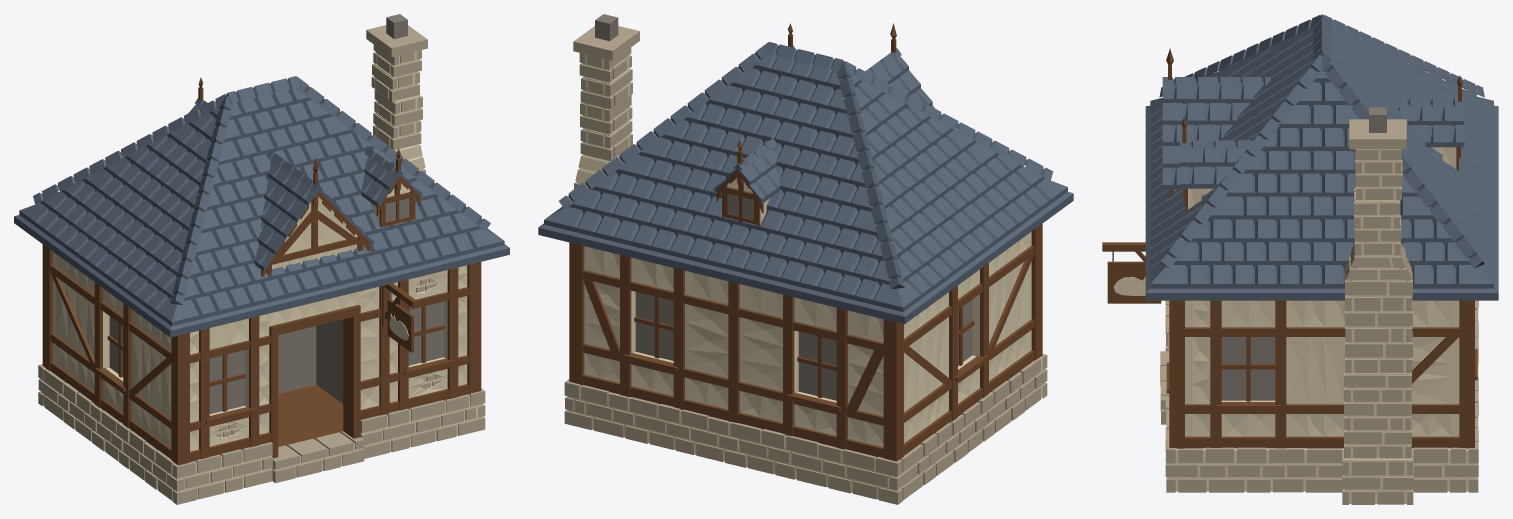
The model's file is tavern_exterior.glb.
The picture shows the model from 3 angles, left to right: view 1: azimuth 30°, elevation 25°; view 2: azimuth 150°, elevation 25°; view 3: azimuth 270°, elevation 25°; orthographic projection. The views are drawn at different scales.
Visible parts, largest first — view 1: Roof, Timbers, Walls, Foundation, Gable_Front, Vestibule, Chimney, Windows, Doorway, Dormer_Front, Sign; view 2: Roof, Timbers, Walls, Foundation, Chimney, Windows, Dormer_Back, Gable_Front; view 3: Roof, Chimney, Walls, Timbers, Foundation, Gable_Front, Windows, Dormer_Back, Dormer_Front, Sign.
Part boxes in pixels (box(x1,y1,x2,y2)): Roof: box(14, 76, 509, 337); Timbers: box(42, 244, 481, 465); Walls: box(53, 252, 467, 451); Foundation: box(38, 364, 485, 504); Gable_Front: box(252, 150, 373, 276); Vestibule: box(278, 319, 343, 446); Chimney: box(366, 14, 427, 173); Windows: box(95, 301, 454, 423); Doorway: box(269, 304, 360, 458); Dormer_Front: box(361, 147, 422, 227); Sign: box(382, 283, 417, 352); Roof: box(538, 42, 1073, 324); Timbers: box(569, 224, 1042, 461); Walls: box(584, 232, 1031, 447); Foundation: box(564, 354, 1047, 504); Chimney: box(573, 14, 639, 188); Windows: box(623, 292, 988, 411); Dormer_Back: box(714, 137, 780, 226); Gable_Front: box(865, 23, 934, 108); Roof: box(1145, 14, 1498, 300); Chimney: box(1342, 107, 1413, 504); Walls: box(1185, 300, 1459, 436); Timbers: box(1169, 300, 1474, 448); Foundation: box(1160, 300, 1478, 492); Gable_Front: box(1162, 48, 1270, 197); Windows: box(1166, 337, 1477, 409); Dormer_Back: box(1389, 75, 1464, 170); Dormer_Front: box(1180, 117, 1253, 211); Sign: box(1102, 242, 1161, 303).
Bounding box in the file's own units: 10.14 × 9.5 × 8.87.
